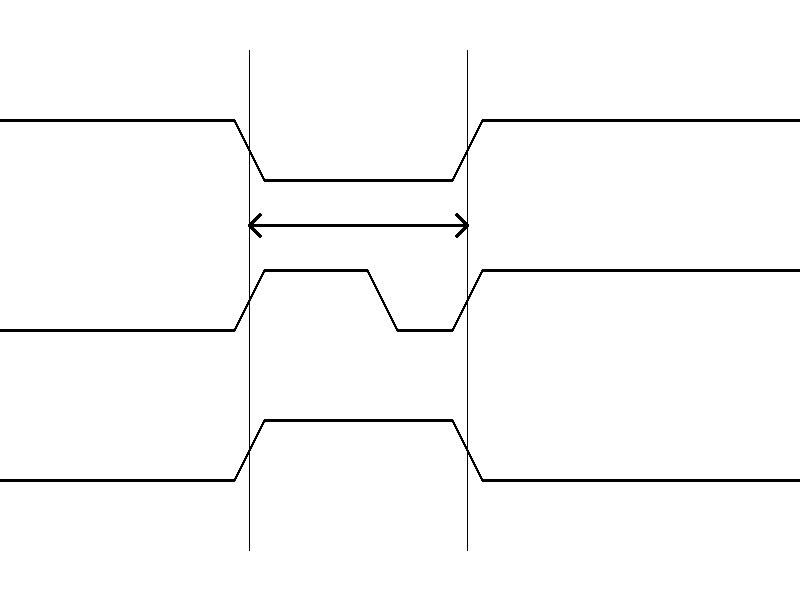double_arrow: (249, 210, 467, 240)
